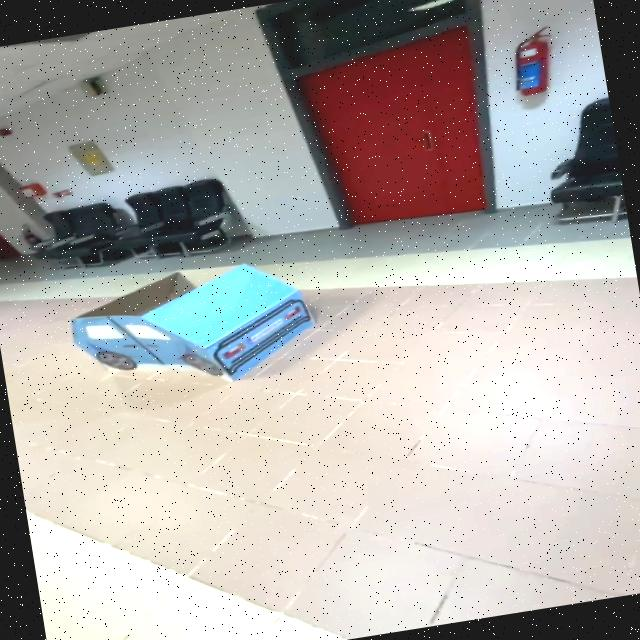blue_car: (36, 240, 358, 421)
